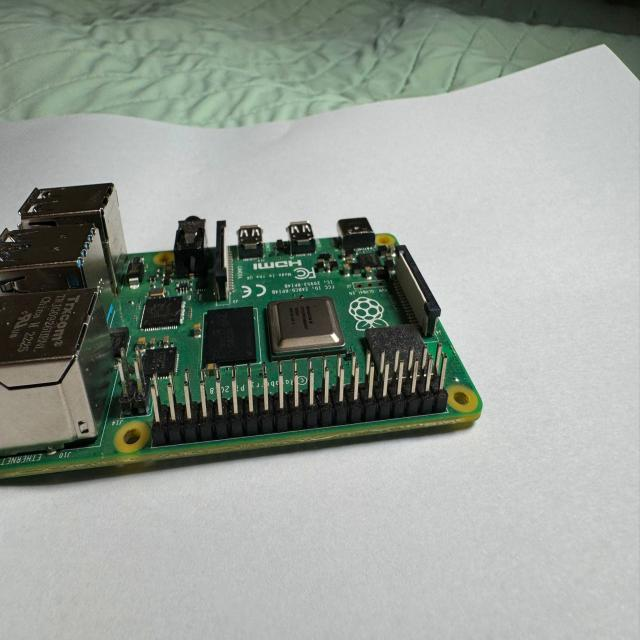CPU: (265, 297, 346, 360)
Ethernet: (2, 290, 117, 457)
GPIO: (155, 361, 440, 437)
RAM: (201, 306, 261, 371)
Raspberry: (1, 177, 487, 489)
micro-hdmi: (269, 221, 318, 258), (238, 226, 267, 258)
